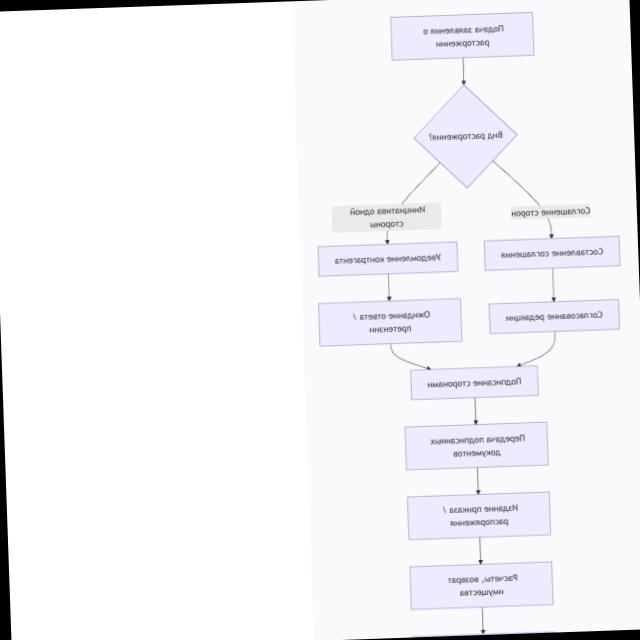arrow: (381, 162, 444, 245), (492, 158, 555, 240), (514, 332, 558, 366), (390, 342, 432, 371), (549, 268, 557, 302), (472, 467, 482, 494), (475, 536, 484, 564), (459, 58, 467, 86), (478, 606, 486, 634), (384, 274, 392, 300), (472, 397, 478, 424)
diamond: (414, 85, 515, 186)
rectangle: (404, 423, 548, 470), (407, 493, 550, 540), (390, 13, 533, 60), (318, 299, 460, 346), (409, 563, 553, 609), (318, 242, 457, 276), (484, 236, 619, 271), (488, 300, 619, 334), (410, 366, 537, 399)
text_region: (348, 203, 426, 230), (511, 206, 591, 218)
